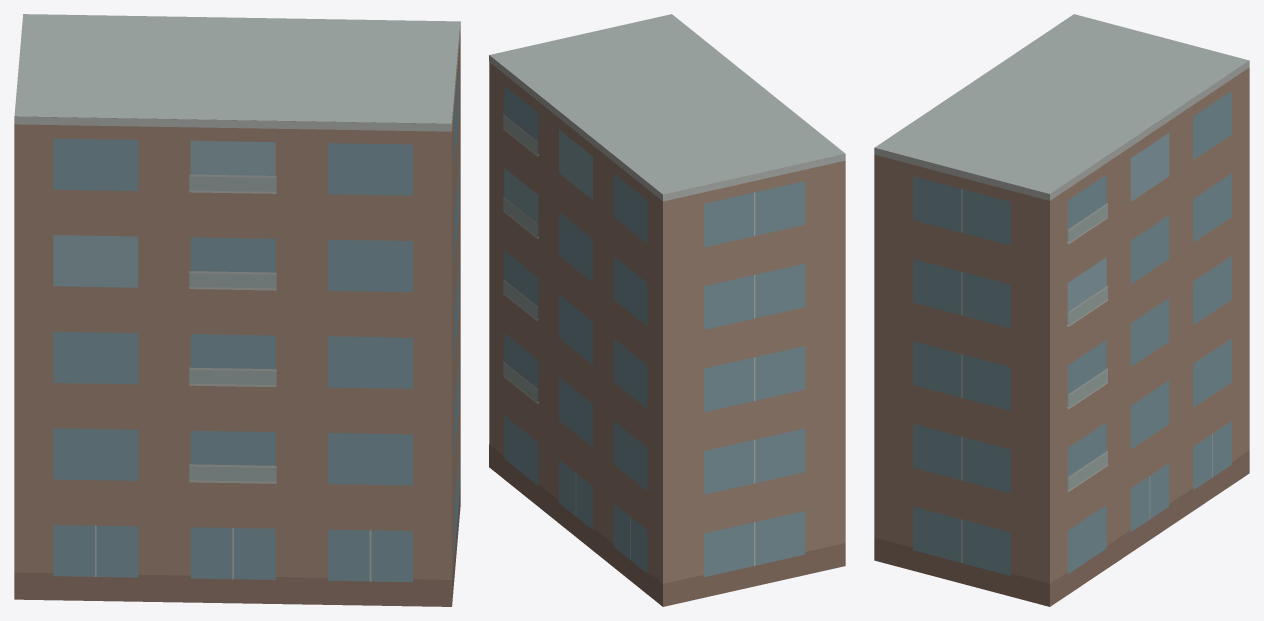
The model's file is survey-upis-32764432.glb.
3 views of the same model, side by side, from view 1: azimuth 30°, elevation 25°; view 2: azimuth 150°, elevation 25°; view 3: azimuth 270°, elevation 25° (orthographic). The views are drawn at different scales.
Visible parts, largest first — view 1: survey-upis-32764432.tmp; view 2: survey-upis-32764432.tmp; view 3: survey-upis-32764432.tmp.
Part boxes in pixels (x1,y1,x2,y2): survey-upis-32764432.tmp: (14, 14, 460, 606); survey-upis-32764432.tmp: (489, 14, 845, 606); survey-upis-32764432.tmp: (874, 14, 1249, 606).
Bounding box in the file's own units: 13.76 × 14.7 × 12.12.
